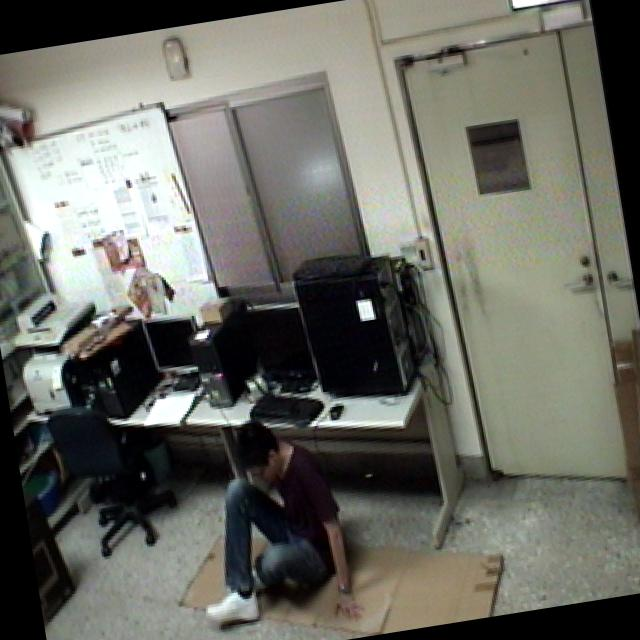sit: (174, 394, 375, 640)
